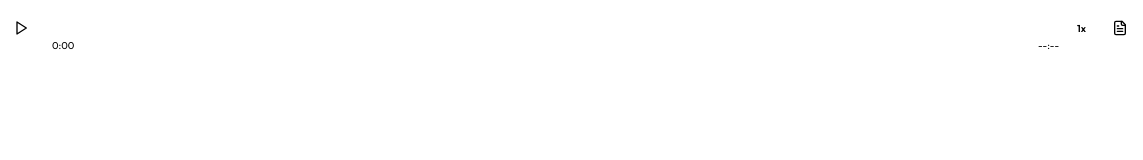
Test: AudioMessagePlayer - Playback Speed Controls › shows integer speeds without extra decimals (1x not 1.00x)
This screenshot has width=1143, height=160.
Click the button titled "Velocidade". click: (1082, 29)
box: [1071, 17, 1092, 41]
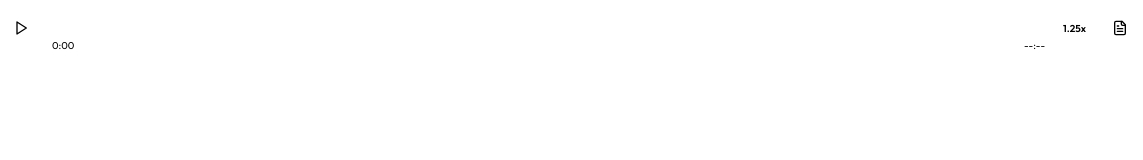
Click the button titled "Velocidade". click: (1075, 29)
box: [1057, 17, 1092, 41]
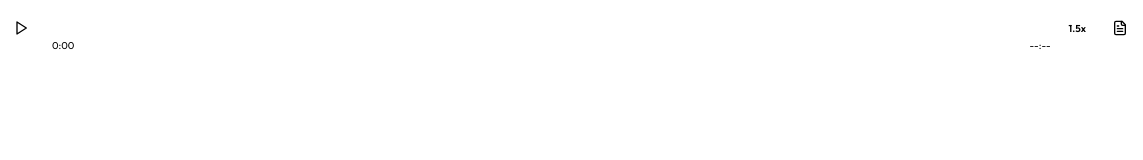
Click the button titled "Velocidade". click: (1077, 29)
box: [1063, 17, 1092, 41]
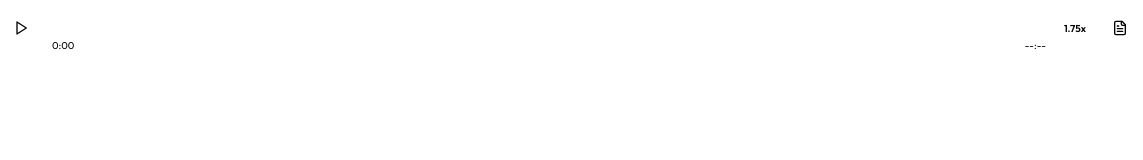
Click the button titled "Velocidade". click: (1075, 29)
box: [1058, 17, 1092, 41]
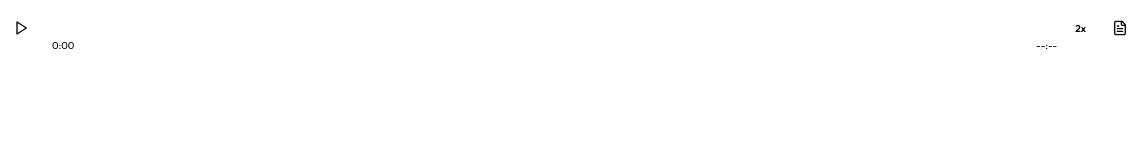
Check: the button titled "Velocidade" reads "2x", box [1069, 17, 1092, 41]
